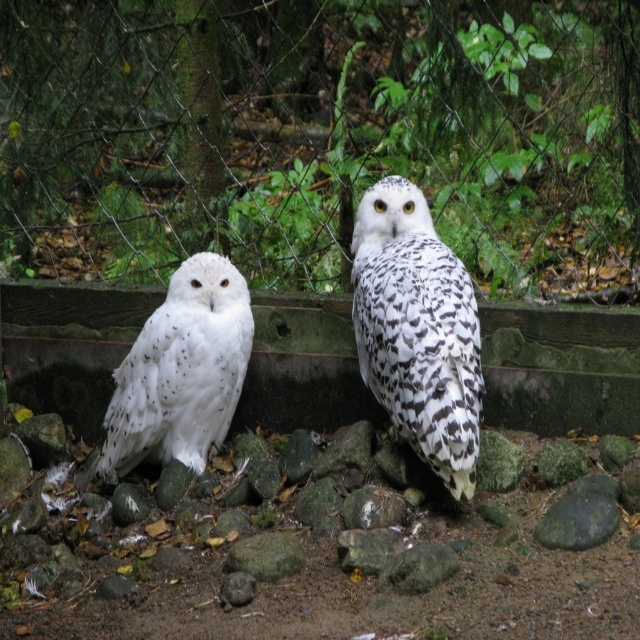Owl: (349, 177, 490, 498), (93, 252, 257, 491)
